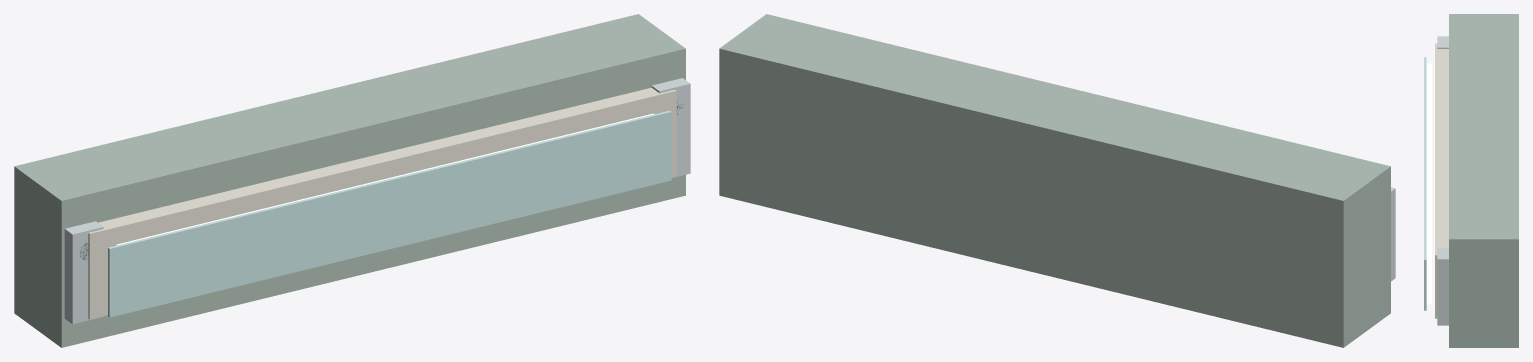
Rendered from s7-lw2-wall-flood-wide.glb.
3 renders of one model, left to right at view 1: azimuth 30°, elevation 25°; view 2: azimuth 150°, elevation 25°; view 3: azimuth 270°, elevation 25°, orthographic. The views are drawn at different scales.
Visible parts, largest first — view 1: 000_sealed_wall_flood_body, 003_flood_diffuser, 001_outer_lens_carrier, 004_side_flood_bracket, 006_side_flood_bracket, 002_warm_broad_flood_emitter; view 2: 000_sealed_wall_flood_body; view 3: 000_sealed_wall_flood_body, 001_outer_lens_carrier, 002_warm_broad_flood_emitter, 006_side_flood_bracket, 003_flood_diffuser, 004_side_flood_bracket.
Part boxes in pixels (<box>): 000_sealed_wall_flood_body: <box>14,14,685,347</box>; 003_flood_diffuser: <box>108,110,671,317</box>; 001_outer_lens_carrier: <box>88,87,676,319</box>; 004_side_flood_bracket: <box>64,221,103,324</box>; 006_side_flood_bracket: <box>651,78,690,177</box>; 002_warm_broad_flood_emitter: <box>116,113,654,245</box>; 000_sealed_wall_flood_body: <box>719,14,1390,347</box>; 000_sealed_wall_flood_body: <box>1449,14,1518,347</box>; 001_outer_lens_carrier: <box>1435,43,1448,318</box>; 002_warm_broad_flood_emitter: <box>1426,63,1431,304</box>; 006_side_flood_bracket: <box>1437,248,1448,325</box>; 003_flood_diffuser: <box>1424,57,1426,310</box>; 004_side_flood_bracket: <box>1437,36,1448,48</box>.
Size of the model in its own units: 0.8 by 0.18 by 0.1425.
